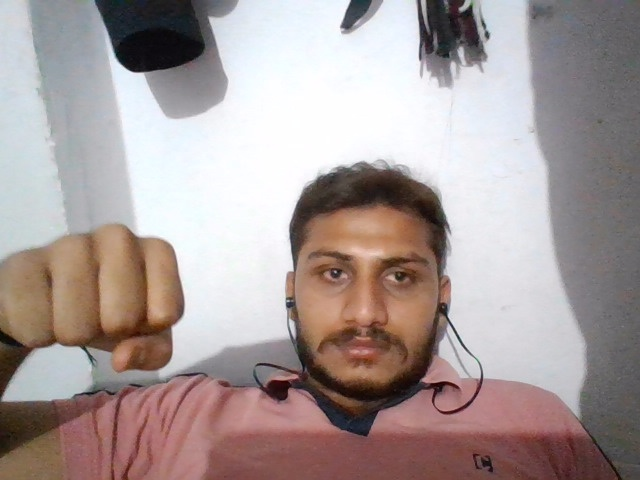Yes: (1, 217, 193, 377)
